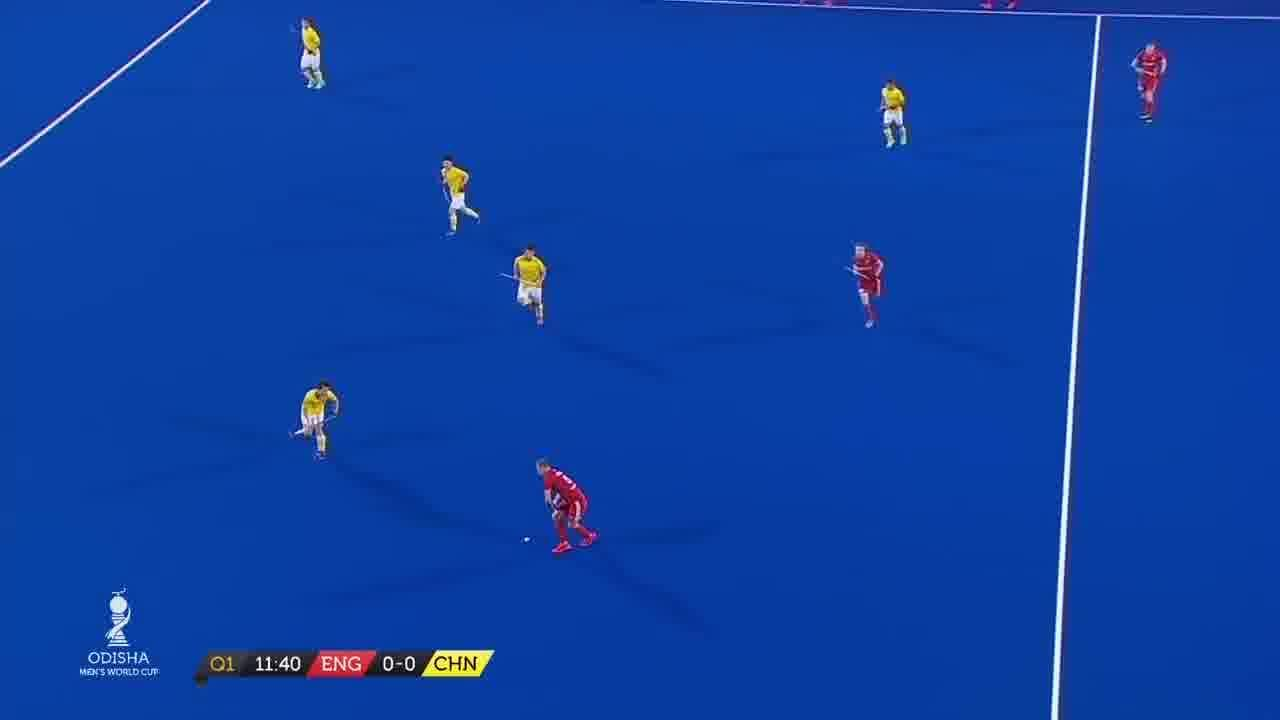ball: (522, 532, 536, 548)
